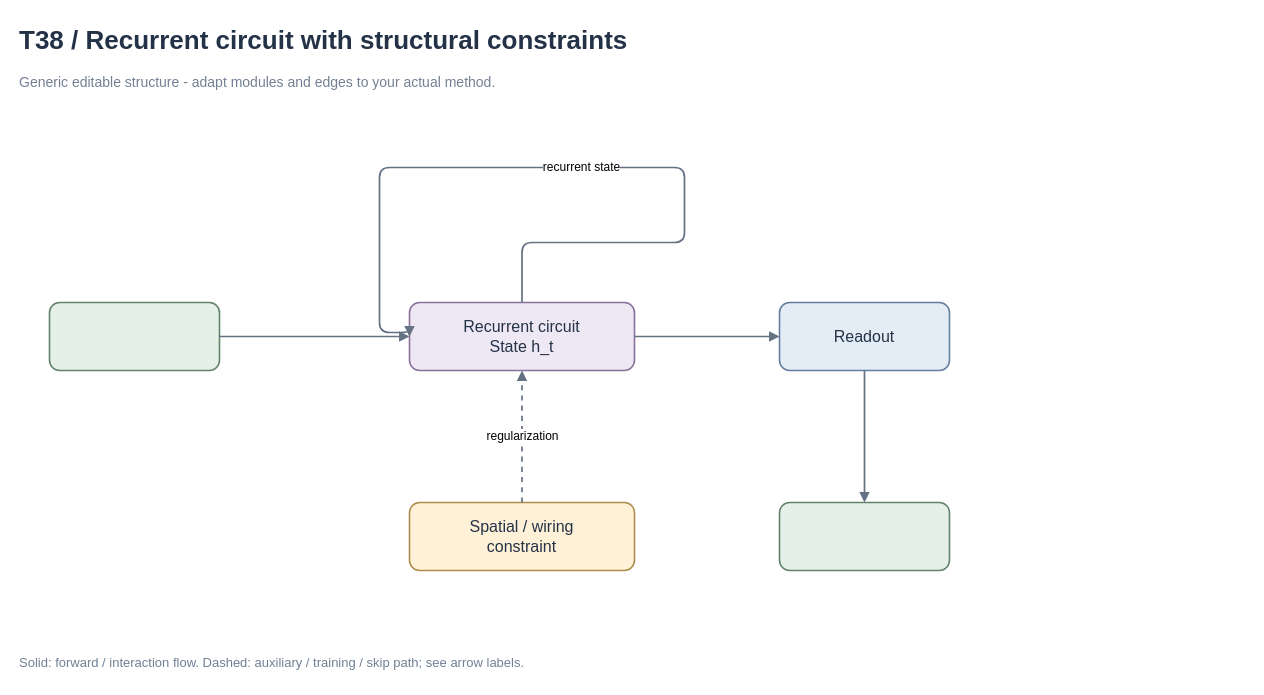
Some shapes in this 1264 by 695 pixel diagram are drawn without their labels. Each missing label, with the box of its shape:
Stimulus / input: (48, 301, 220, 371)
Task behavior: (778, 501, 950, 571)
